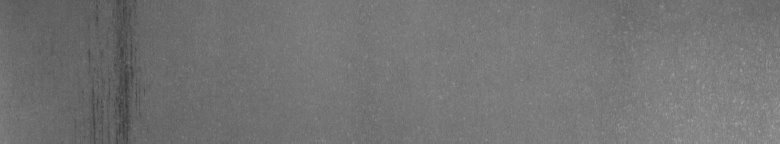ka: (84, 5, 150, 136)
